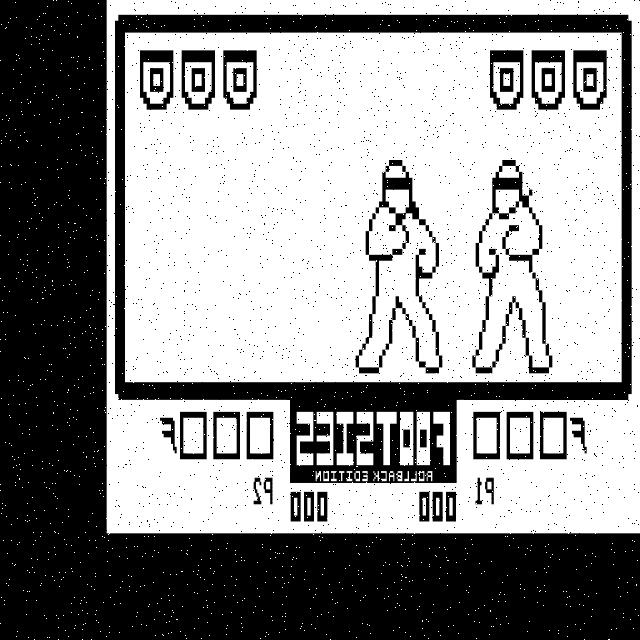Idle: (463, 148, 566, 378)
